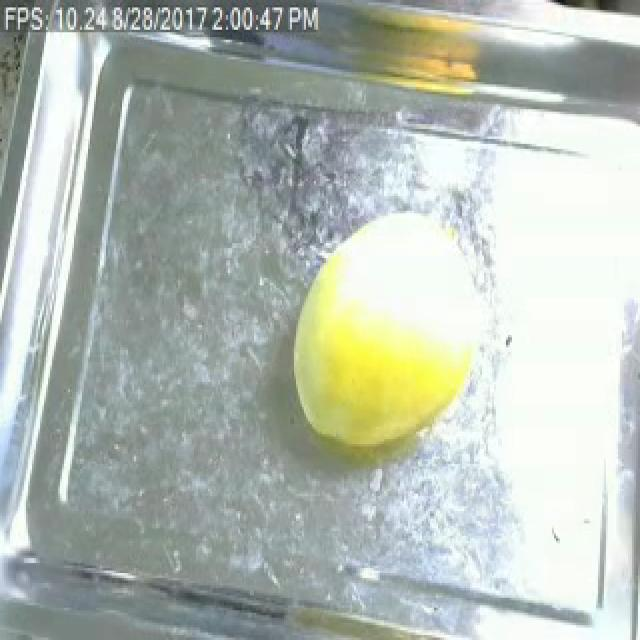fruit: (268, 221, 508, 486), (302, 0, 508, 131)
